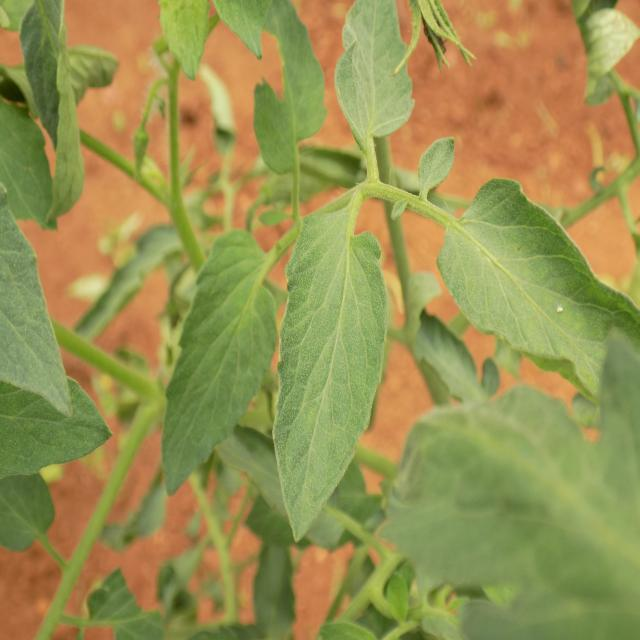tomato_healthy: (430, 173, 640, 418), (278, 201, 389, 545), (160, 225, 276, 498)
